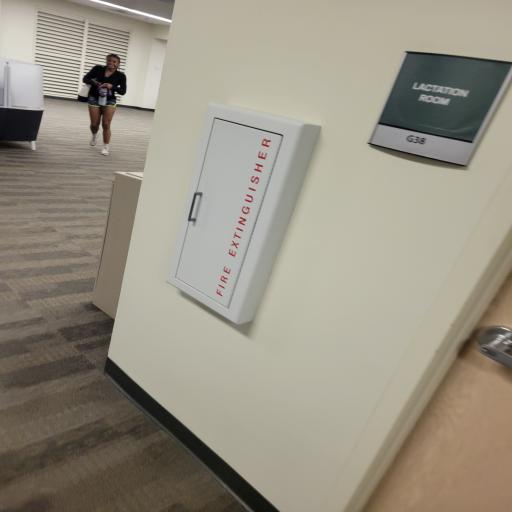fire extinguisher: (178, 91, 320, 332)
